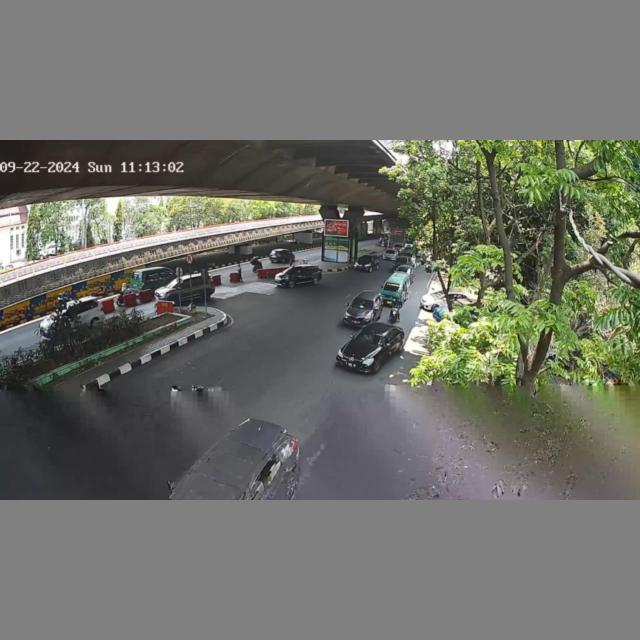windshield: (352, 327, 385, 347), (352, 298, 373, 310), (384, 283, 401, 292)
